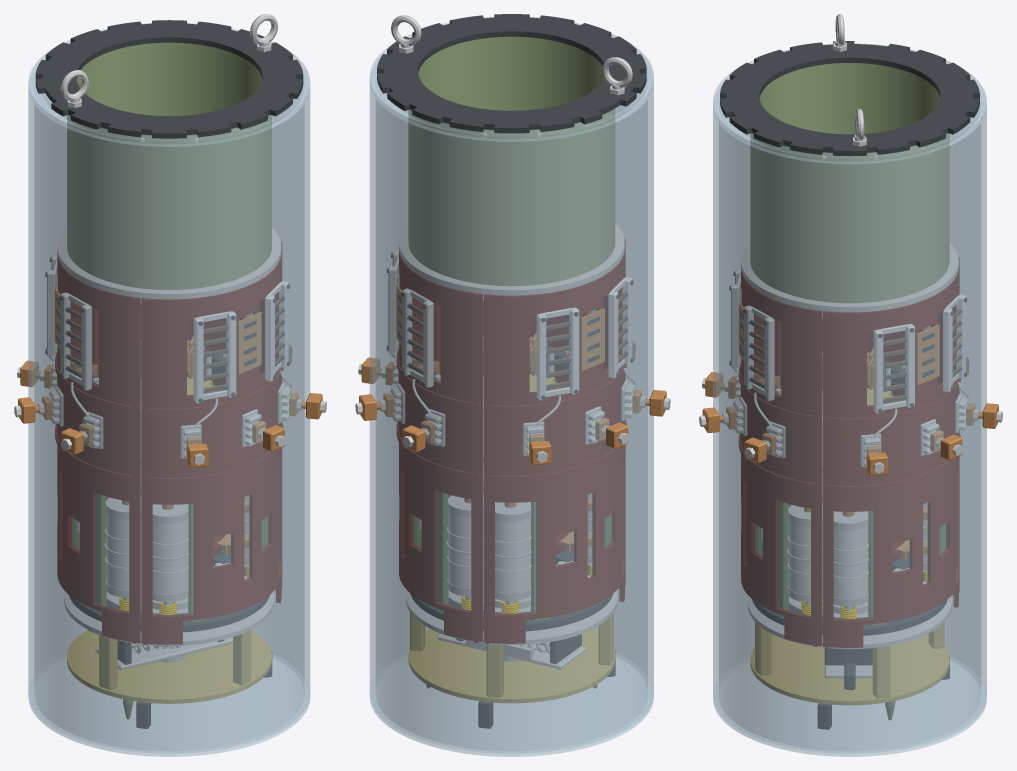
Rendered from shzv-insert.glb.
The picture shows the model from 3 angles, left to right: view 1: azimuth 30°, elevation 25°; view 2: azimuth 150°, elevation 25°; view 3: azimuth 270°, elevation 25°; orthographic projection. The views are drawn at different scales.
Parts seen in each view (by area): view 1: comp, ins-frame, accum, resistor, vi, comp-term, ins-term, ins-cam, lift, main-contact, transfer; view 2: comp, ins-frame, accum, resistor, vi, comp-term, ins-term, ins-cam, lift, main-contact, transfer; view 3: comp, ins-frame, accum, resistor, vi, comp-term, ins-term, ins-cam, main-contact, lift.
Boxes of the visible parts, bbox=[...] form: comp: bbox=[28, 23, 310, 756]; ins-frame: bbox=[35, 20, 303, 728]; accum: bbox=[64, 566, 274, 703]; resistor: bbox=[45, 255, 291, 428]; vi: bbox=[104, 495, 249, 605]; comp-term: bbox=[14, 345, 326, 467]; ins-term: bbox=[49, 363, 291, 458]; ins-cam: bbox=[69, 553, 269, 632]; lift: bbox=[60, 14, 278, 107]; main-contact: bbox=[71, 336, 226, 384]; transfer: bbox=[77, 497, 249, 555]; comp: bbox=[369, 17, 653, 756]; ins-frame: bbox=[377, 14, 646, 728]; accum: bbox=[406, 564, 617, 703]; resistor: bbox=[386, 251, 634, 425]; vi: bbox=[446, 493, 592, 604]; comp-term: bbox=[355, 342, 670, 465]; ins-term: bbox=[390, 360, 634, 456]; ins-cam: bbox=[410, 551, 612, 631]; lift: bbox=[391, 15, 632, 95]; main-contact: bbox=[413, 332, 569, 380]; transfer: bbox=[419, 494, 592, 554]; comp: bbox=[713, 43, 986, 756]; ins-frame: bbox=[720, 41, 979, 729]; accum: bbox=[748, 571, 951, 705]; resistor: bbox=[729, 269, 968, 438]; vi: bbox=[787, 502, 927, 610]; comp-term: bbox=[699, 357, 1002, 475]; ins-term: bbox=[733, 374, 968, 467]; ins-cam: bbox=[752, 559, 947, 635]; main-contact: bbox=[754, 348, 905, 394]; lift: bbox=[833, 14, 866, 146].
Size of the model in its own units: 0.5301 by 1.22 by 0.5302.
